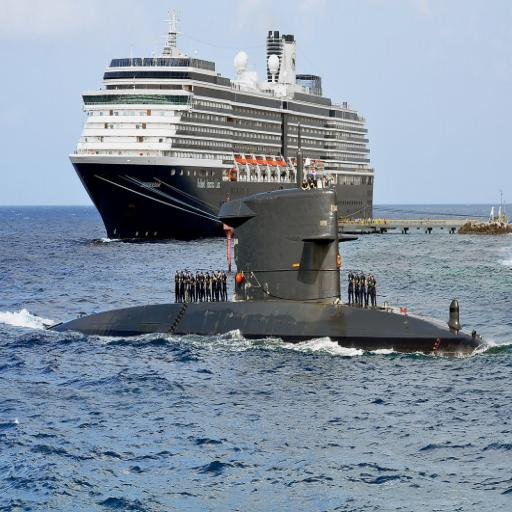submarine: (46, 152, 491, 349)
